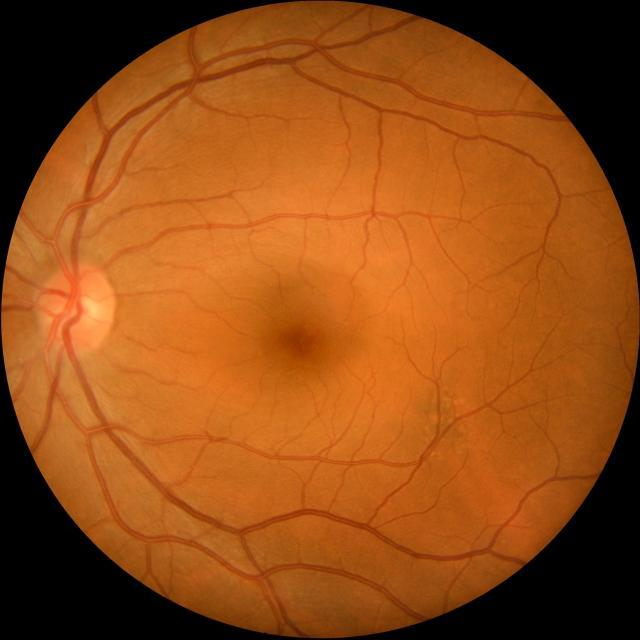OC: (67, 292, 101, 328)
OD: (37, 262, 114, 356)
